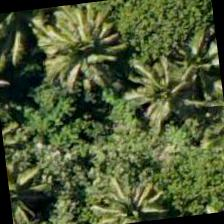Kelapa_Sawit: (108, 42, 208, 142), (27, 16, 127, 116), (73, 155, 171, 223)
